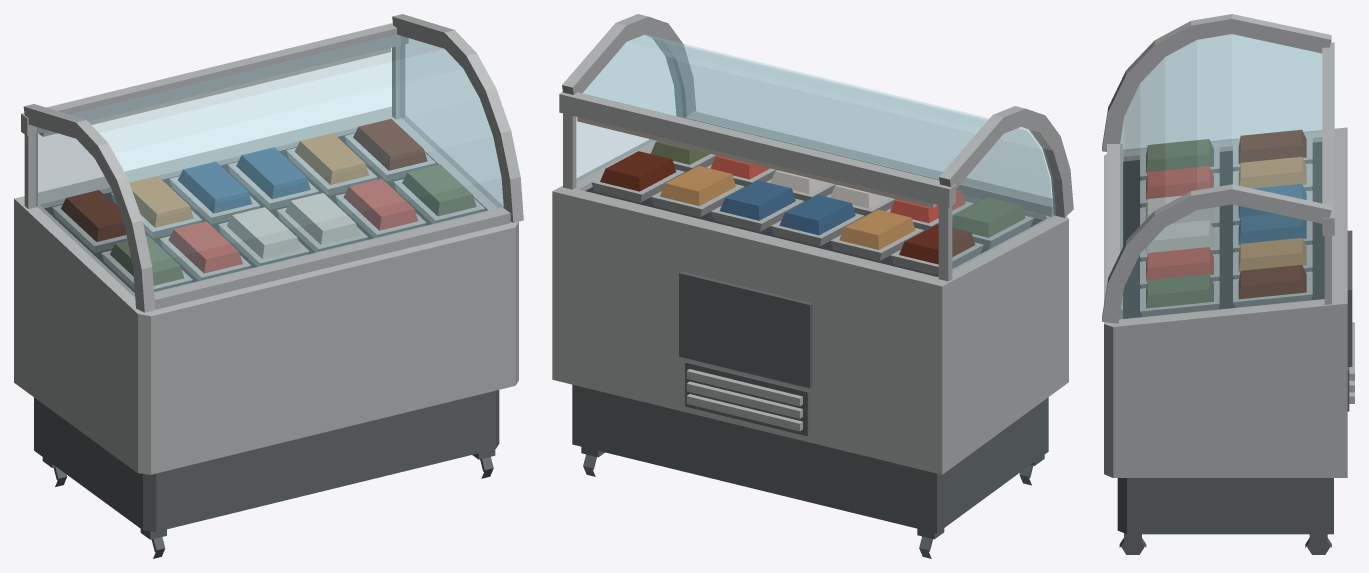
File: topping_case.glb
3 renders of one model, left to right at view 1: azimuth 30°, elevation 25°; view 2: azimuth 150°, elevation 25°; view 3: azimuth 270°, elevation 25°, orthographic. The views are drawn at different scales.
Visible parts, largest first — view 1: gelato-display-freezer, hood-glass, pans, hood; view 2: gelato-display-freezer, hood-glass, pans, hood; view 3: gelato-display-freezer, hood-glass, pans, hood.
Boxes of the visible parts, bbox=[...] form: gelato-display-freezer: bbox=[14, 23, 518, 558]; hood-glass: bbox=[36, 35, 503, 296]; pans: bbox=[52, 119, 484, 291]; hood: bbox=[23, 14, 523, 312]; gelato-display-freezer: bbox=[552, 91, 1068, 558]; hood-glass: bbox=[576, 34, 1055, 270]; pans: bbox=[591, 141, 1033, 275]; hood: bbox=[562, 14, 1073, 217]; gelato-display-freezer: bbox=[1104, 42, 1354, 554]; hood-glass: bbox=[1119, 34, 1324, 319]; pans: bbox=[1140, 129, 1312, 316]; hood: bbox=[1102, 14, 1331, 323].
Bounding box in the file's own units: 1.37 × 1.37 × 0.8305.
